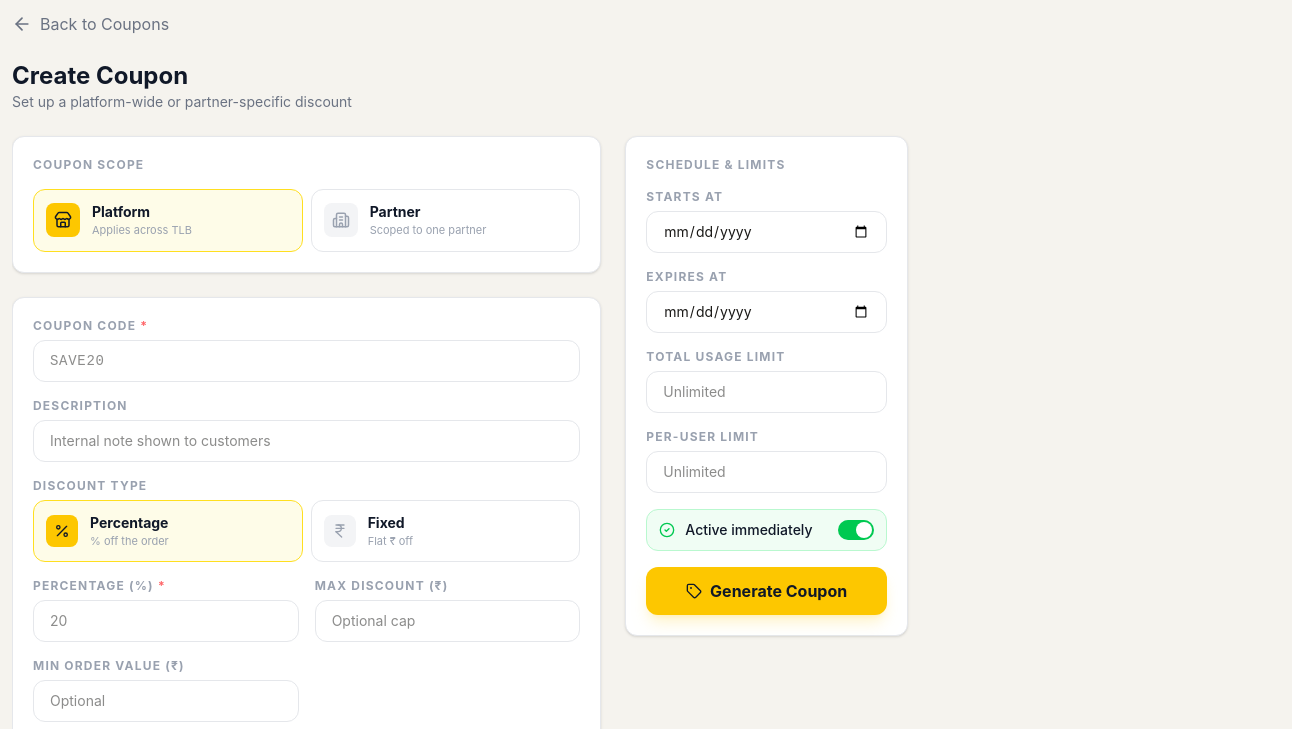
it: CreateCoupon › rejects a percentage above 100
Step 1. Type "BIG" into the field with placeholder "SAVE20" → (307, 360), box [33,340,580,382]
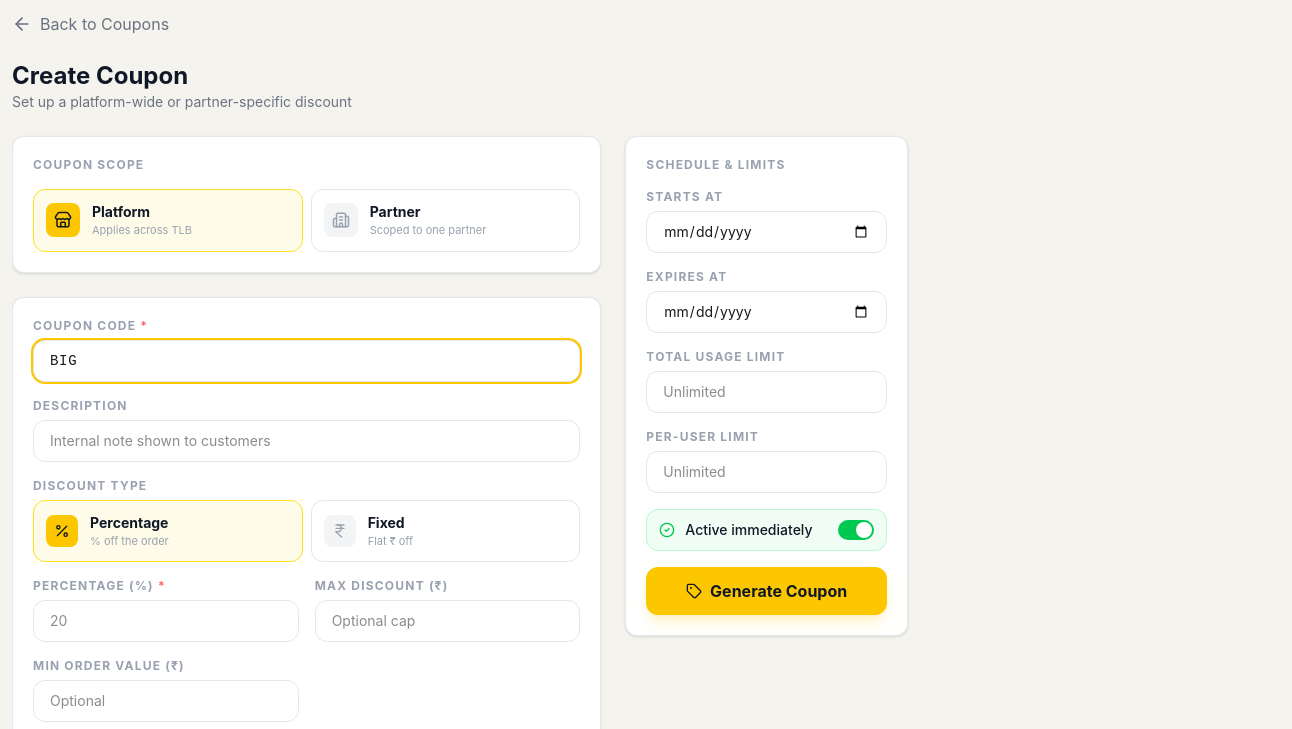
Step 2. Type "150" into the number field with placeholder "20" → (166, 621), box [33,600,299,642]
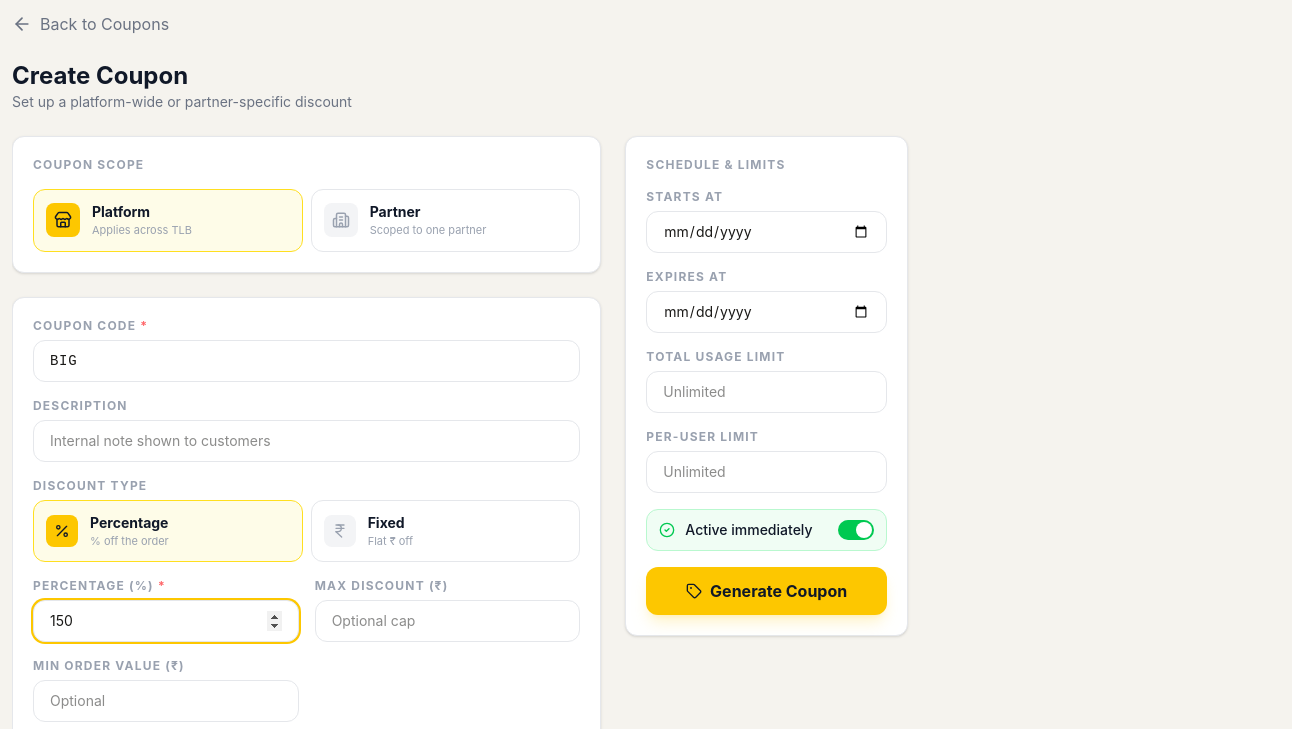
Step 3. Click the button "Generate Coupon" → (767, 591), box [646,567,887,615]
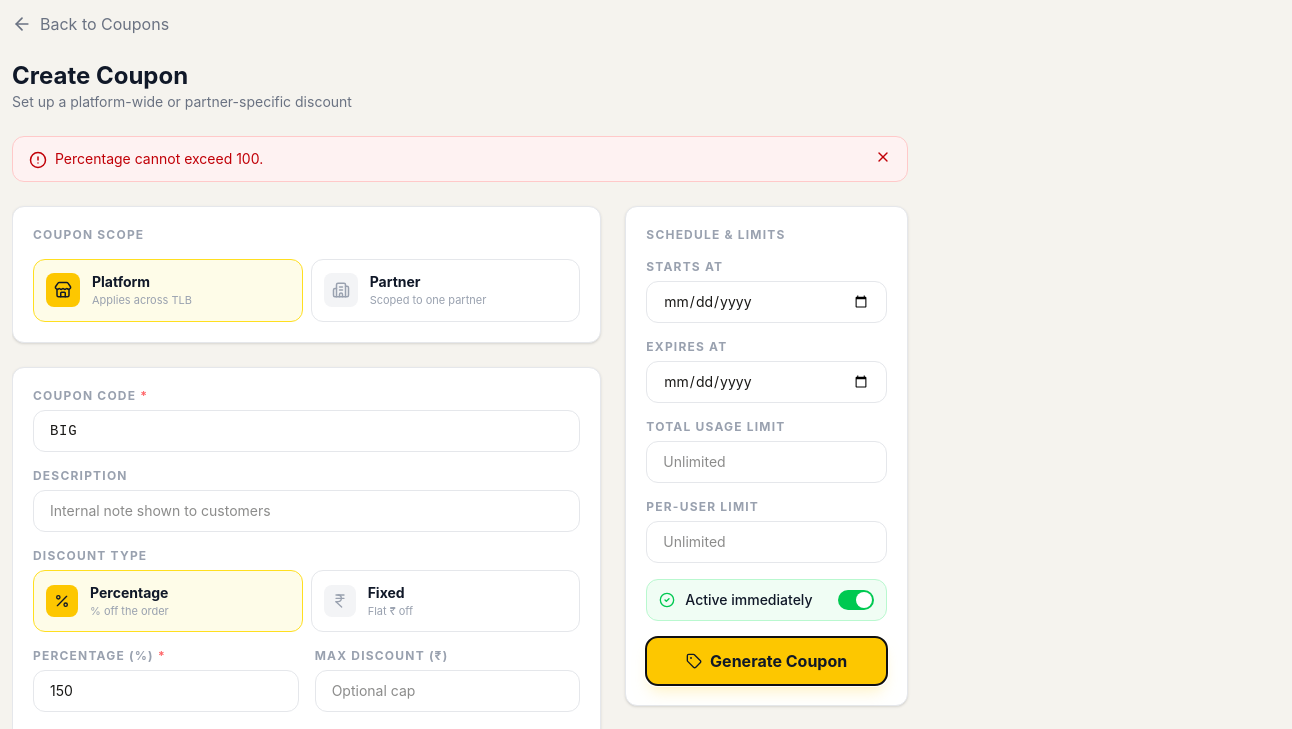
Expected: the text "Percentage cannot exceed 100." is shown, [55,150,263,167]
